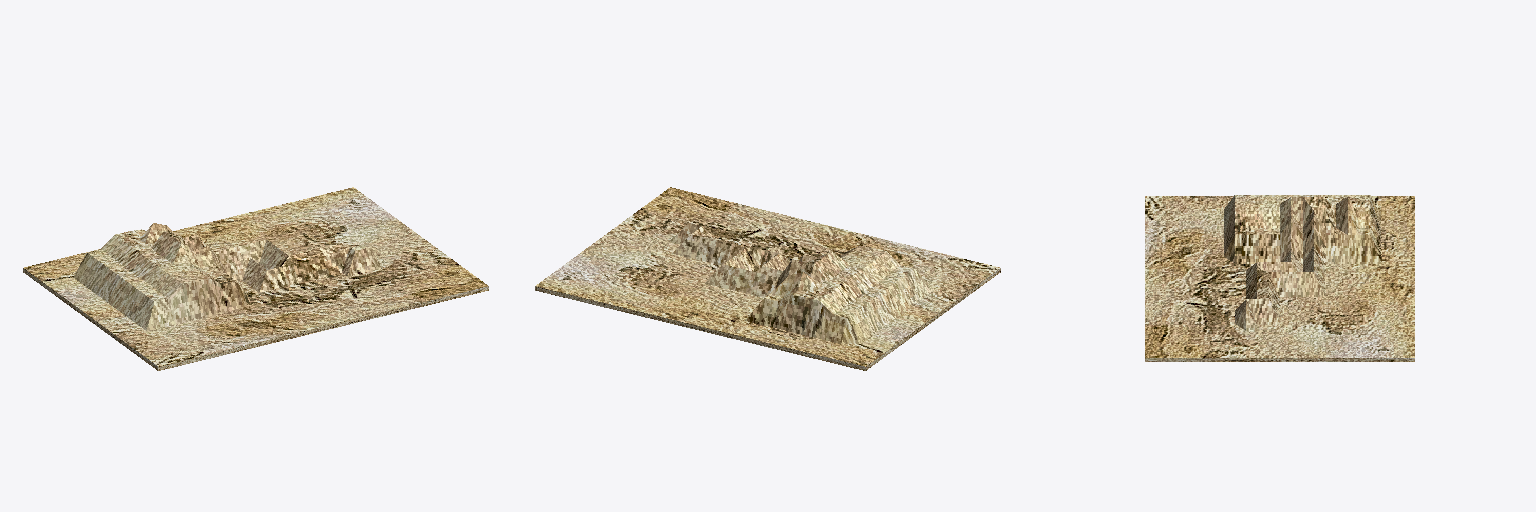
3 renders of one model, left to right at view 1: azimuth 30°, elevation 25°; view 2: azimuth 150°, elevation 25°; view 3: azimuth 270°, elevation 25°, orthographic.
Visible parts, largest first — view 1: Box001; view 2: Box001; view 3: Box001.
Boxes of the visible parts, box(x1,y1,x2,y2) form: Box001: box(23, 187, 488, 370); Box001: box(535, 187, 1000, 370); Box001: box(1145, 195, 1414, 361).
Size of the model in its own units: 248 by 36.45 by 176.
Materials: 1 (1 with a texture image).